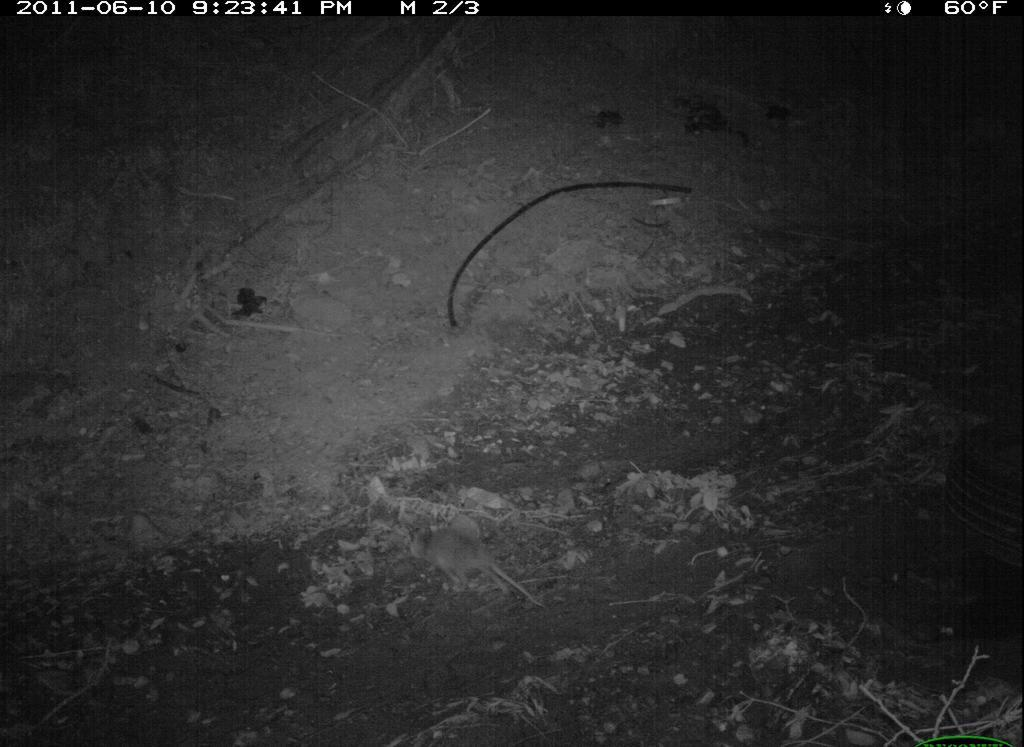opossum: (401, 519, 553, 624)
